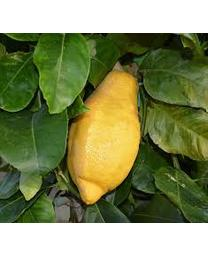lemon: (67, 69, 143, 203)
